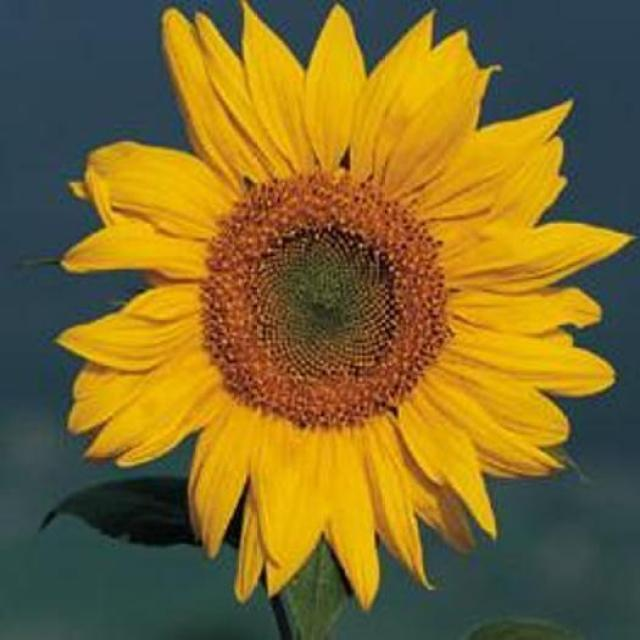sunflower: (50, 3, 630, 609)
